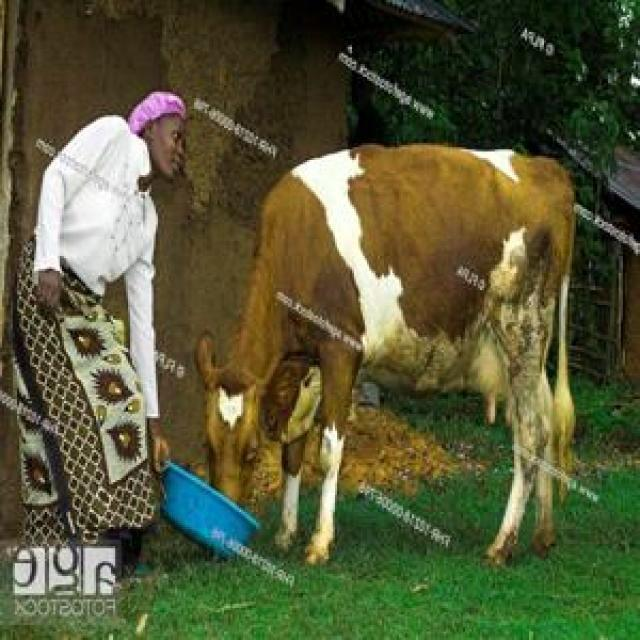cow: (198, 145, 574, 564)
